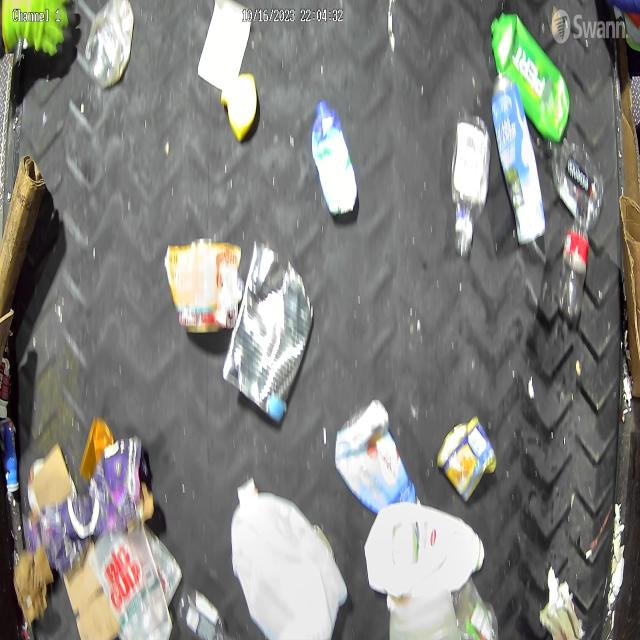can: (219, 236, 317, 423), (491, 69, 546, 246), (439, 416, 499, 504)
milk_jug: (231, 474, 348, 640), (367, 496, 484, 606)
plastic_bottle: (558, 190, 594, 328), (553, 132, 602, 226)
